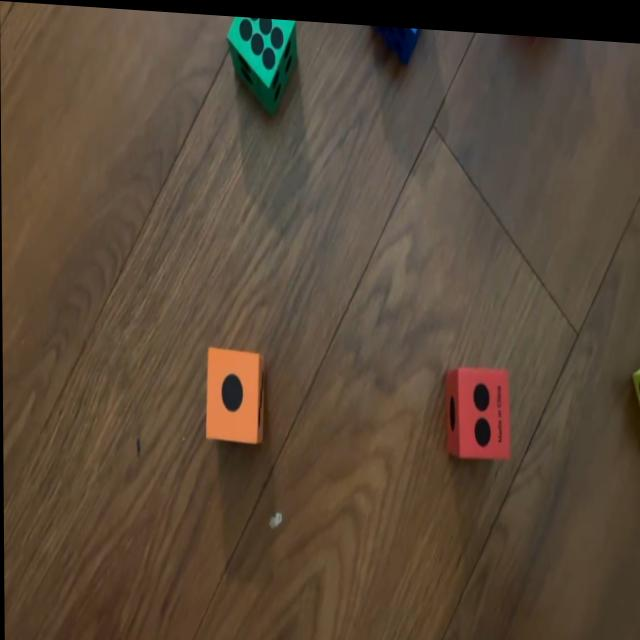blue_block: (380, 20, 425, 53)
red_block: (444, 358, 511, 455)
